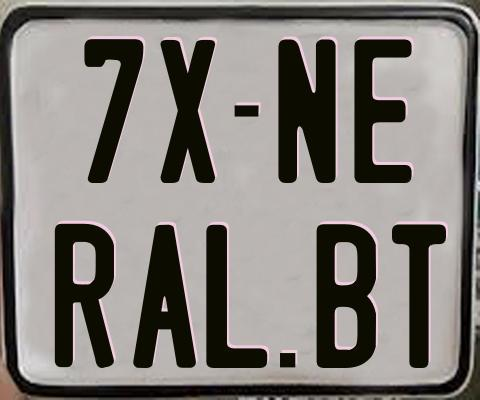7: (81, 39, 145, 184)
A: (130, 224, 199, 367)
B: (313, 221, 373, 367)
E: (353, 39, 416, 188)
L: (206, 223, 272, 366)
N: (278, 39, 341, 187)
R: (53, 223, 112, 373)
T: (389, 222, 443, 369)
X: (157, 39, 217, 187)
